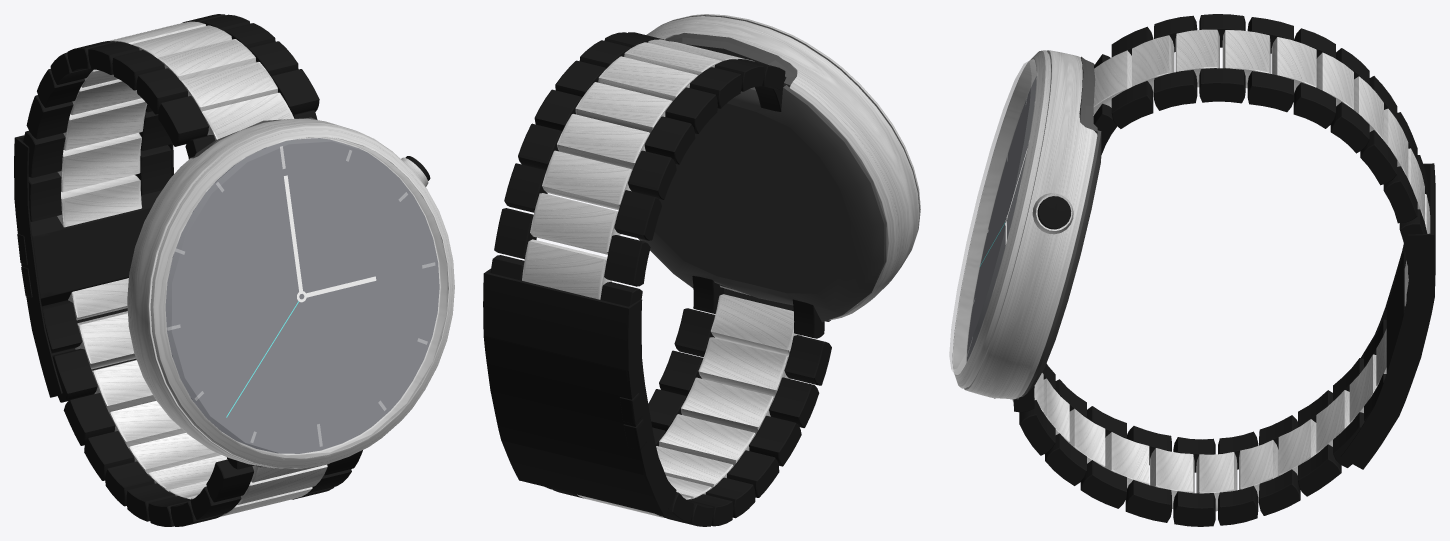
Rendered from reloj-inteligente-negro-lite.glb.
The picture shows the model from 3 angles, left to right: view 1: azimuth 30°, elevation 25°; view 2: azimuth 150°, elevation 25°; view 3: azimuth 270°, elevation 25°; orthographic projection.
Parts seen in each view (by area): view 1: watchGlass_Glass_0, WatchshellTop_RIS_Shader:PxrDisney2_0, FinalStrap1_MenMetal_0, strapClip_MenMetal2_0, hrHand1_menWatchHands_0; view 2: strapClip_MenMetal2_0, FinalStrap1_MenMetal_0, watchBottom_Plastic_0; view 3: FinalStrap1_MenMetal_0, strapClip_MenMetal2_0, watchGlass_Glass_0, WatchshellTop_RIS_Shader:PxrDisney2_0, watchBottom_Plastic_0.
Part boxes in pixels (box(x1,y1,x2,y2)): watchGlass_Glass_0: box(165, 136, 448, 459); WatchshellTop_RIS_Shader:PxrDisney2_0: box(165, 138, 439, 453); FinalStrap1_MenMetal_0: box(57, 21, 454, 516); strapClip_MenMetal2_0: box(14, 14, 430, 526); hrHand1_menWatchHands_0: box(284, 175, 376, 302); strapClip_MenMetal2_0: box(483, 32, 831, 526); FinalStrap1_MenMetal_0: box(522, 14, 920, 517); watchBottom_Plastic_0: box(638, 33, 886, 322); FinalStrap1_MenMetal_0: box(952, 29, 1430, 511); strapClip_MenMetal2_0: box(1013, 14, 1435, 526); watchGlass_Glass_0: box(949, 60, 1037, 374); WatchshellTop_RIS_Shader:PxrDisney2_0: box(967, 76, 1036, 360); watchBottom_Plastic_0: box(994, 56, 1101, 399).
Size of the model in its own units: 0.045 by 0.0629 by 0.0623.
8 materials, 1 textured.
